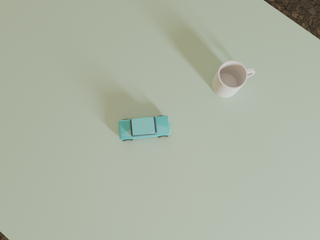cup: (212, 61, 255, 97)
toy_car: (119, 116, 171, 141)
